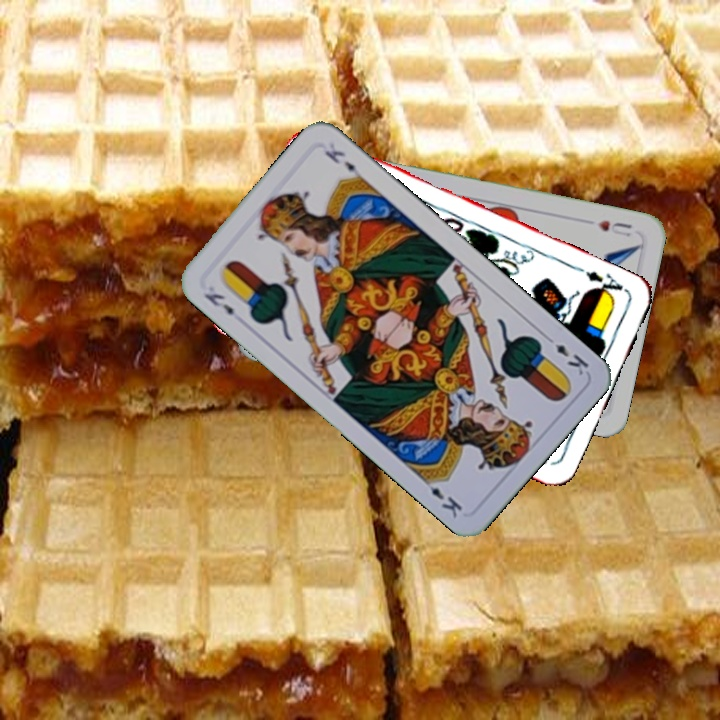EA: (581, 267, 630, 303)
EK: (540, 331, 592, 378), (200, 289, 237, 318)
HU: (594, 216, 635, 240)
